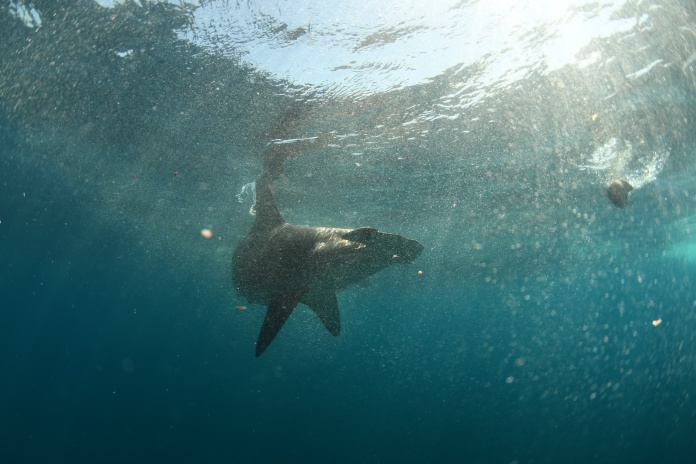Hammer: (171, 156, 435, 365)
